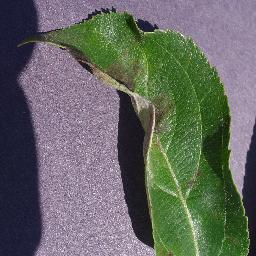apple healthy: (16, 5, 251, 255)
